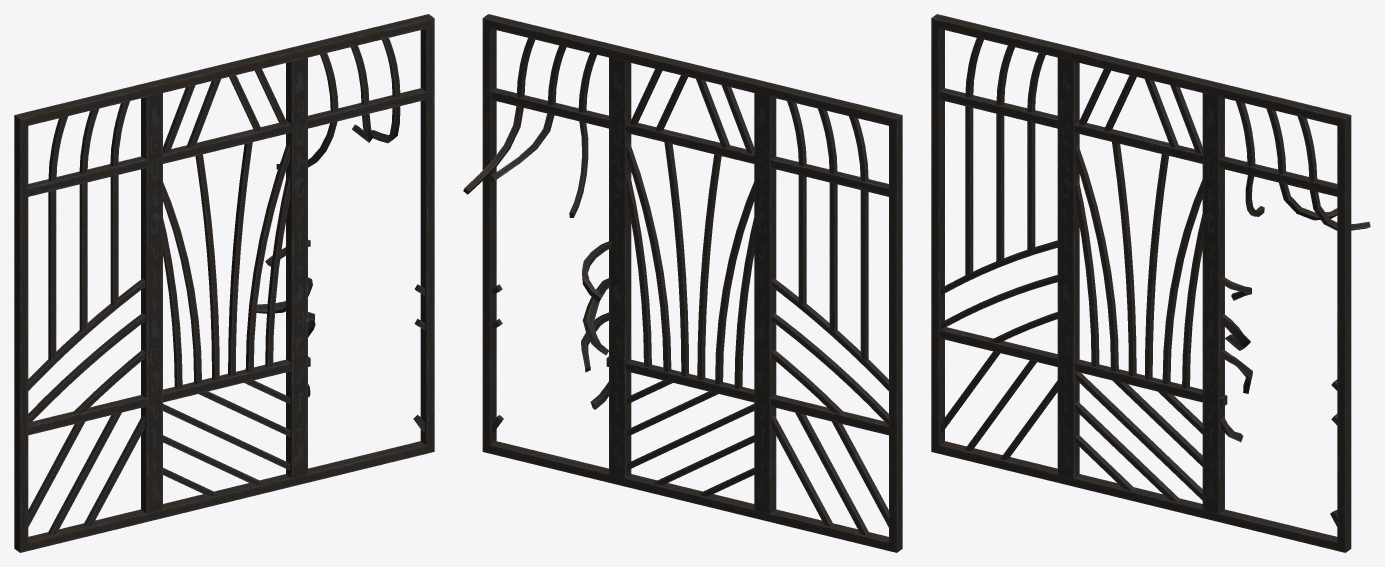
Rendered from tth_metal_bars_01_broken.dae.
The picture shows the model from 3 angles, left to right: view 1: azimuth 30°, elevation 25°; view 2: azimuth 150°, elevation 25°; view 3: azimuth 330°, elevation 25°; orthographic projection.
Visible parts, largest first — view 1: Normal; view 2: Normal; view 3: Normal.
Boxes of the visible parts, left/top/right/bottom form: Normal: left=14, top=14, right=434, bottom=552; Normal: left=463, top=14, right=902, bottom=552; Normal: left=931, top=14, right=1370, bottom=552.
Bounding box in the file's own units: 4 × 4 × 0.7134.
